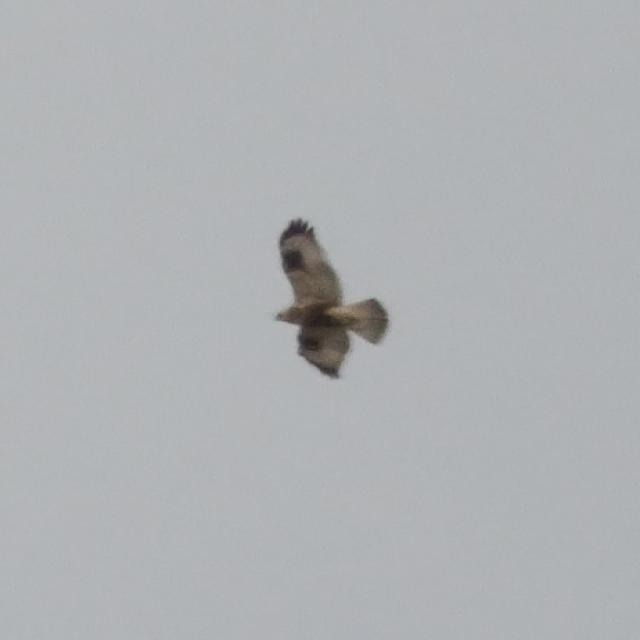bird: (269, 211, 392, 386)
